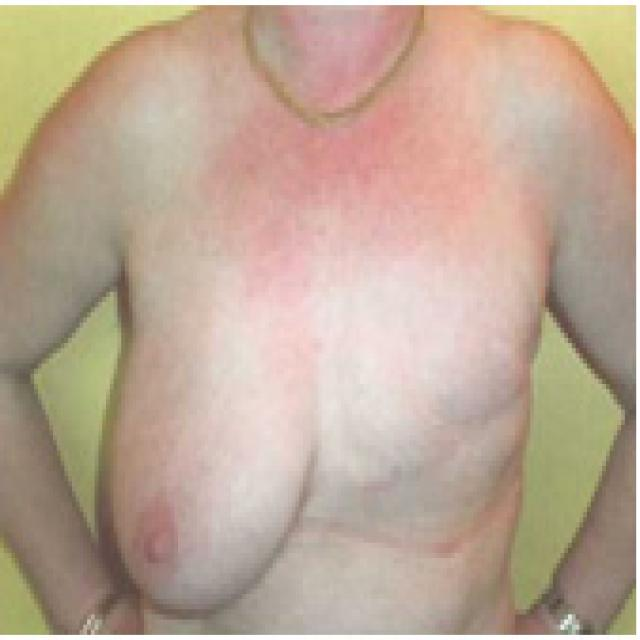Seno herido: (330, 290, 544, 570)
Seno ileso: (89, 290, 327, 633)
